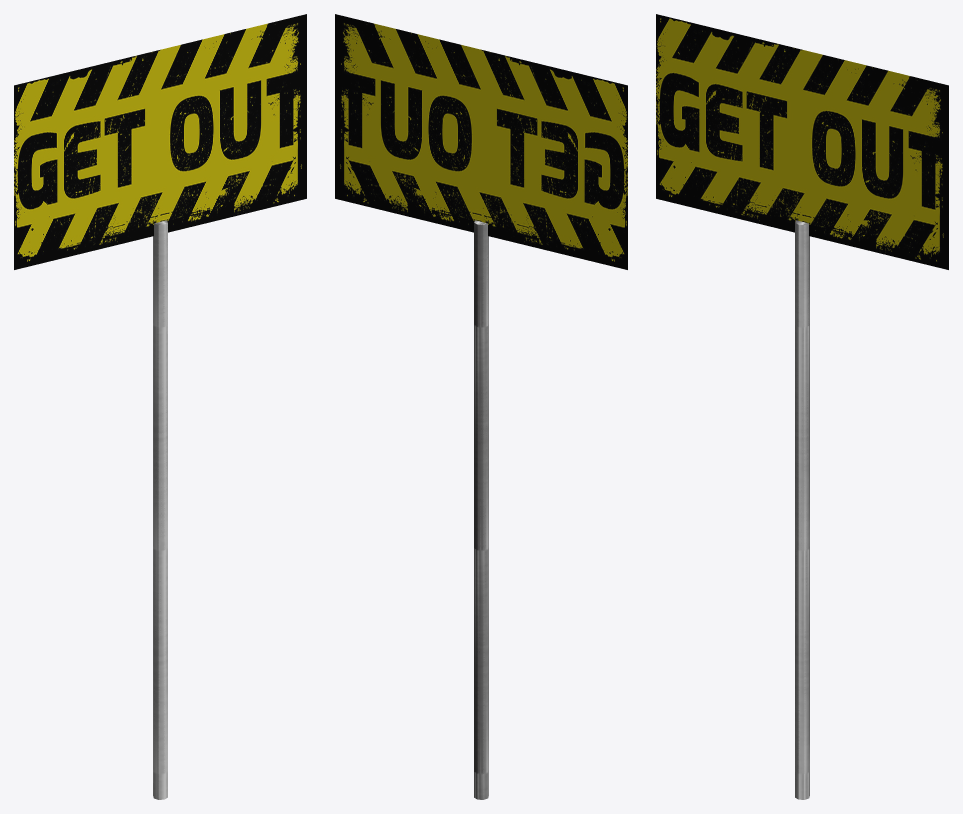
Rendered from getout.obj.
3 renders of one model, left to right at view 1: azimuth 30°, elevation 25°; view 2: azimuth 150°, elevation 25°; view 3: azimuth 330°, elevation 25°, orthographic.
Visible parts, largest first — view 1: pPlane4_Mesh.001_phong1, pPlane4_Mesh.001_lambert2; view 2: pPlane4_Mesh.001_phong1, pPlane4_Mesh.001_lambert2; view 3: pPlane4_Mesh.001_phong1, pPlane4_Mesh.001_lambert2.
Boxes of the visible parts, box(x1,y1,x2,y2) form: pPlane4_Mesh.001_phong1: box(14, 14, 306, 269); pPlane4_Mesh.001_lambert2: box(153, 220, 167, 799); pPlane4_Mesh.001_phong1: box(335, 14, 627, 269); pPlane4_Mesh.001_lambert2: box(474, 220, 488, 799); pPlane4_Mesh.001_phong1: box(656, 14, 948, 269); pPlane4_Mesh.001_lambert2: box(795, 220, 809, 799).
Size of the model in its own units: 0.1368 by 0.3333 by 0.00615.
2 materials, 2 textured.
